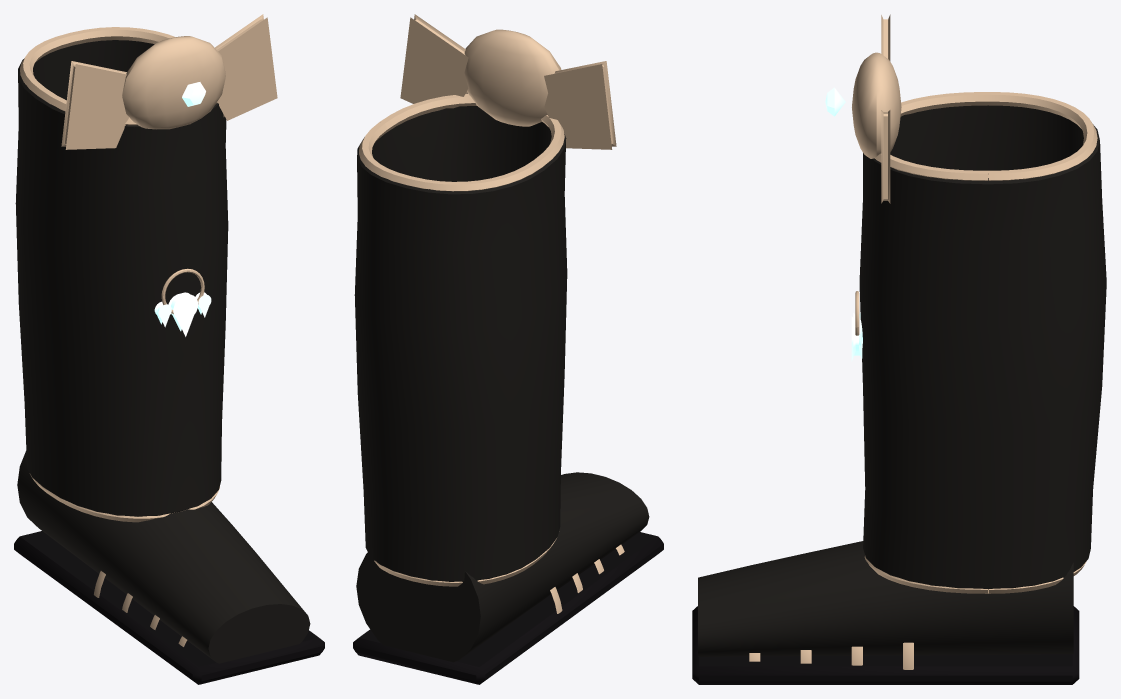
Rendered from asc_hourglass_sage_boots.glb.
The picture shows the model from 3 angles, left to right: view 1: azimuth 30°, elevation 25°; view 2: azimuth 150°, elevation 25°; view 3: azimuth 270°, elevation 25°; orthographic projection. The views are drawn at different scales.
Visible parts, largest first — view 1: asc_hourglass_sage_boots, AT_foot_L; view 2: asc_hourglass_sage_boots, AT_foot_L; view 3: asc_hourglass_sage_boots, AT_foot_L.
Part boxes in pixels (x1,y1,x2,y2): asc_hourglass_sage_boots: (15,14,277,522); AT_foot_L: (14,451,324,684); asc_hourglass_sage_boots: (354,14,616,586); AT_foot_L: (353,472,663,684); asc_hourglass_sage_boots: (825,14,1106,593); AT_foot_L: (692,541,1079,684).
Size of the model in its own units: 0.2244 by 0.5768 by 0.3641.
